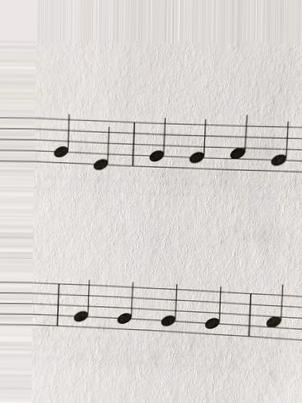A: (224, 107, 251, 180), (259, 282, 284, 349)
E: (87, 115, 116, 180)
G: (262, 116, 292, 184), (199, 284, 226, 344), (66, 278, 95, 333), (184, 115, 210, 176), (51, 111, 74, 176), (146, 113, 171, 172), (111, 280, 137, 336), (157, 281, 179, 340)
